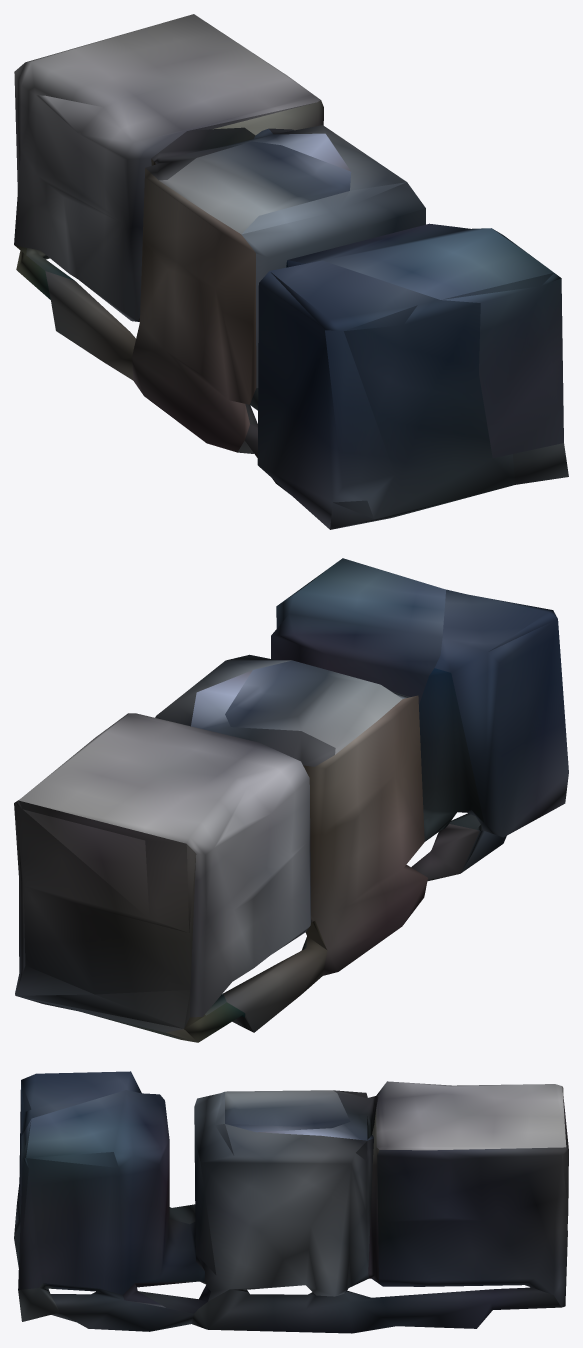
The model's file is cargo_piece_8.glb.
3 views of the same model, one above another, from view 1: azimuth 30°, elevation 25°; view 2: azimuth 150°, elevation 25°; view 3: azimuth 270°, elevation 25° (orthographic). The views are drawn at different scales.
Visible parts, largest first — view 1: cargo_8; view 2: cargo_8; view 3: cargo_8.
Boxes of the visible parts, x1,y1,x2,y2 form: cargo_8: [14, 14, 568, 529]; cargo_8: [14, 558, 568, 1042]; cargo_8: [14, 1071, 568, 1333].
Size of the model in its own units: 0.0428 by 0.0411 by 0.1088.
1 material, 1 textured.
